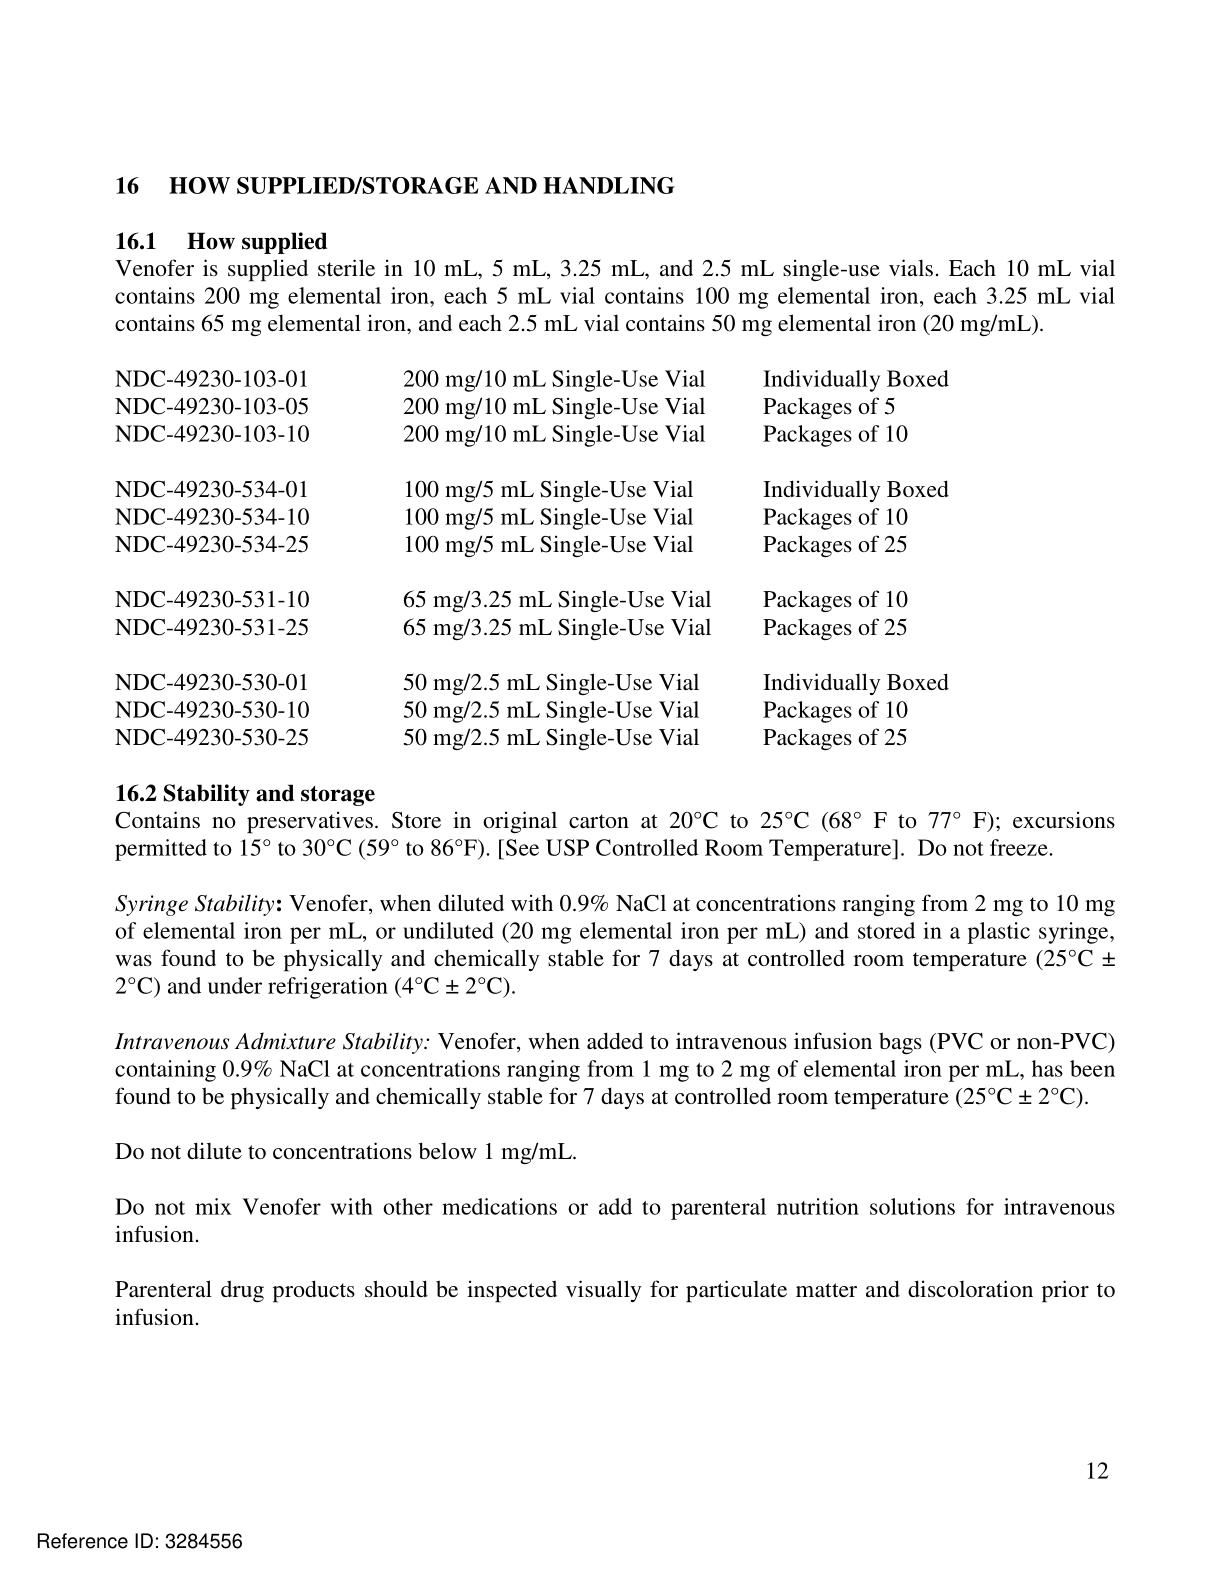nolines: (111, 365, 951, 753)
